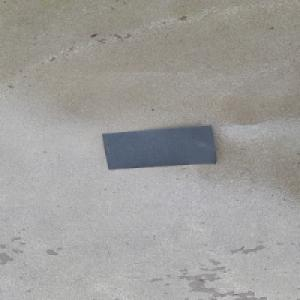PaintChip: (101, 125, 217, 170)
